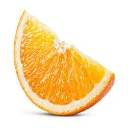orange: (12, 8, 115, 115)
